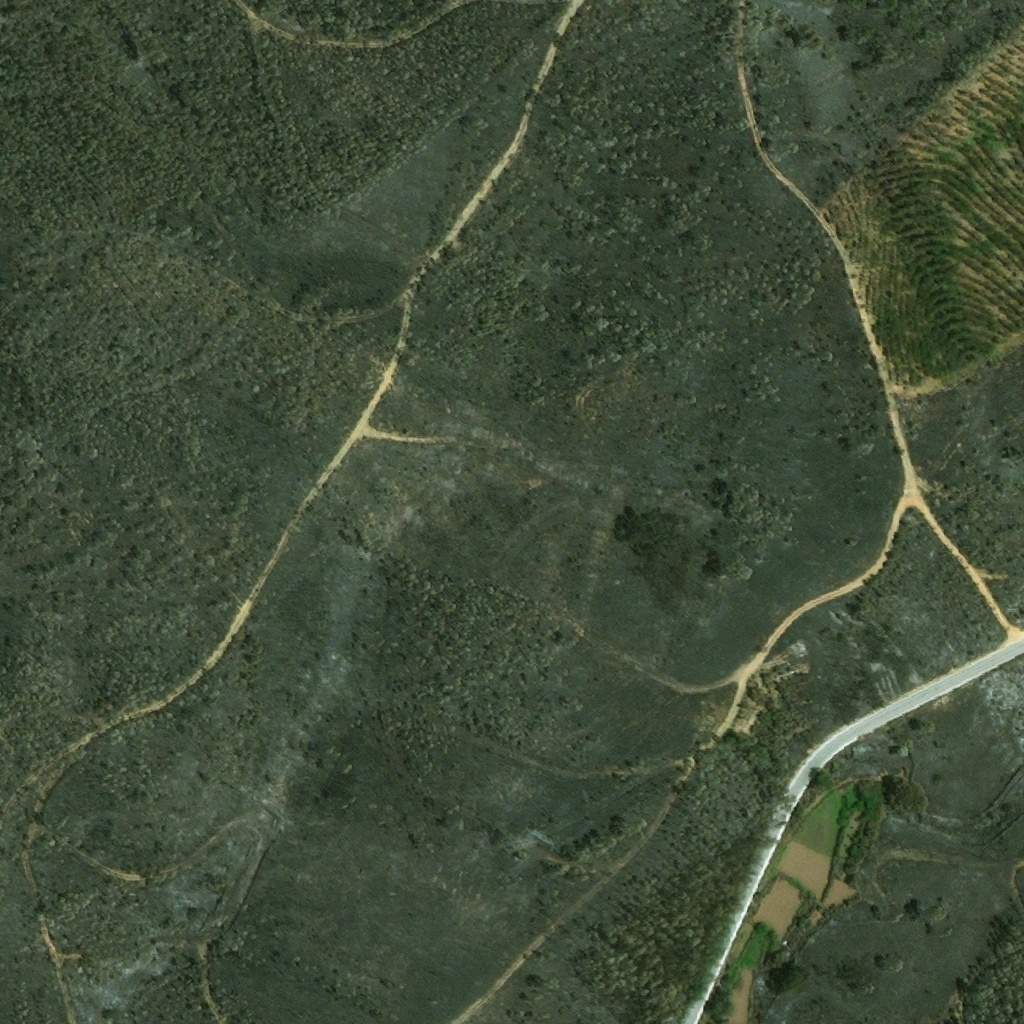3 destroyed: (791, 638, 810, 658), (807, 908, 823, 925)
4 un-classified: (720, 967, 755, 1023)
